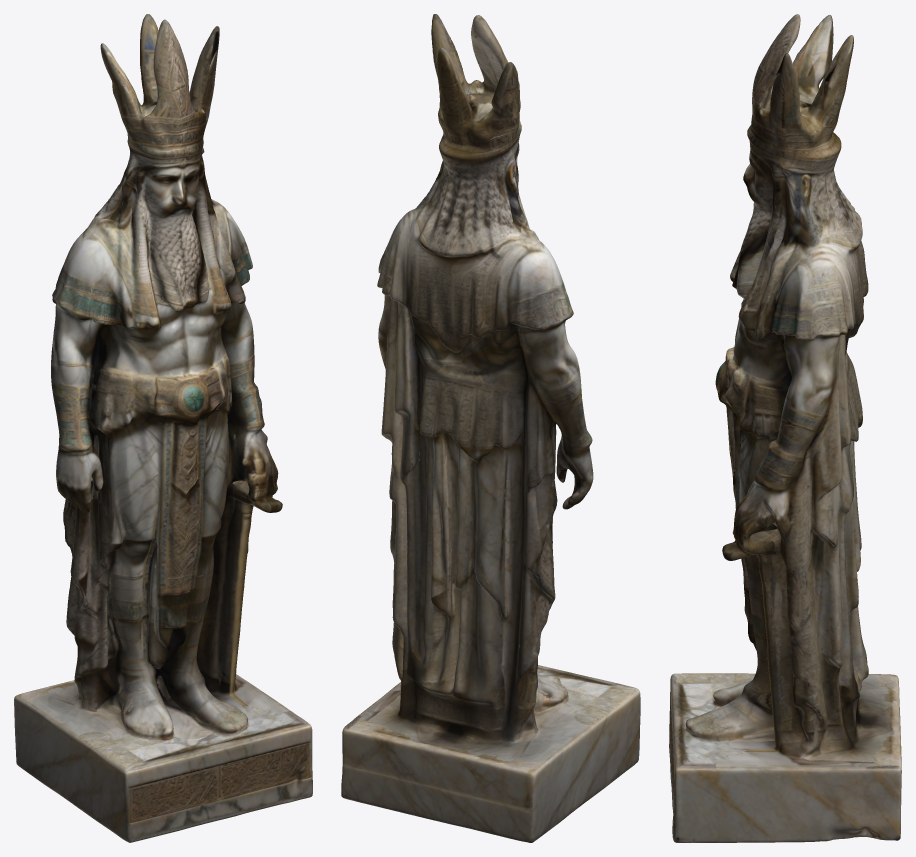
The model's file is Marble_Carved_Highl_0224061841_texture.fbx.
The picture shows the model from 3 angles, left to right: view 1: azimuth 30°, elevation 25°; view 2: azimuth 150°, elevation 25°; view 3: azimuth 270°, elevation 25°; orthographic projection. The views are drawn at different scales.
Parts seen in each view (by area): view 1: Mesh1_Mesh1.013; view 2: Mesh1_Mesh1.013; view 3: Mesh1_Mesh1.013.
Boxes of the visible parts, left/top/right/bottom form: Mesh1_Mesh1.013: left=14, top=14, right=312, bottom=842; Mesh1_Mesh1.013: left=341, top=14, right=640, bottom=842; Mesh1_Mesh1.013: left=669, top=14, right=901, bottom=842.
Bounding box in the file's own units: 55.95 × 200 × 53.85.
1 material, 1 textured.
